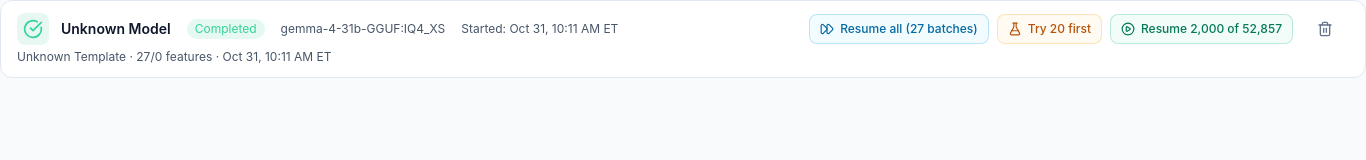
it: Resume all (sweep) › never starts a sweep on one click
Click the button "Resume all (27 batches)" at (899,29), box [809,14,989,44]
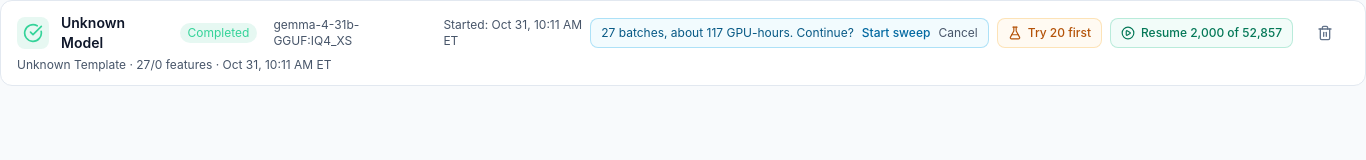
Now the text "27 batches, about 117 GPU-hours. Continue?" is shown, box [601,25,854,41]
